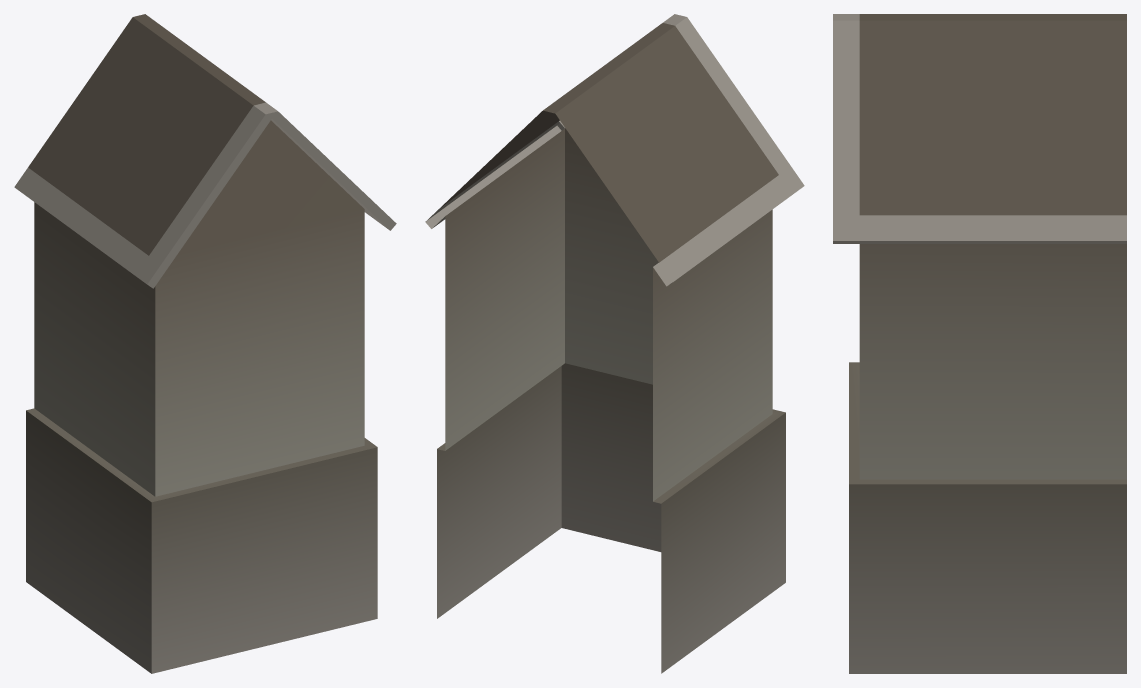
The model's file is Front_G-2.fbx.
3 views of the same model, side by side, from view 1: azimuth 30°, elevation 25°; view 2: azimuth 150°, elevation 25°; view 3: azimuth 270°, elevation 25° (orthographic). The views are drawn at different scales.
Visible parts, largest first — view 1: Front_G-2; view 2: Front_G-2; view 3: Front_G-2.
Boxes of the visible parts, bbox=[...] form: Front_G-2: bbox=[14, 14, 396, 673]; Front_G-2: bbox=[425, 14, 804, 673]; Front_G-2: bbox=[833, 14, 1126, 673].
Size of the model in its own units: 298 by 615 by 275.
